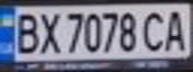0: (81, 9, 103, 54)
7: (60, 9, 84, 54), (100, 8, 121, 53)
8: (118, 9, 142, 53)
A: (160, 7, 193, 53)
B: (9, 9, 42, 55)
C: (139, 8, 169, 53)
X: (36, 8, 63, 55)
